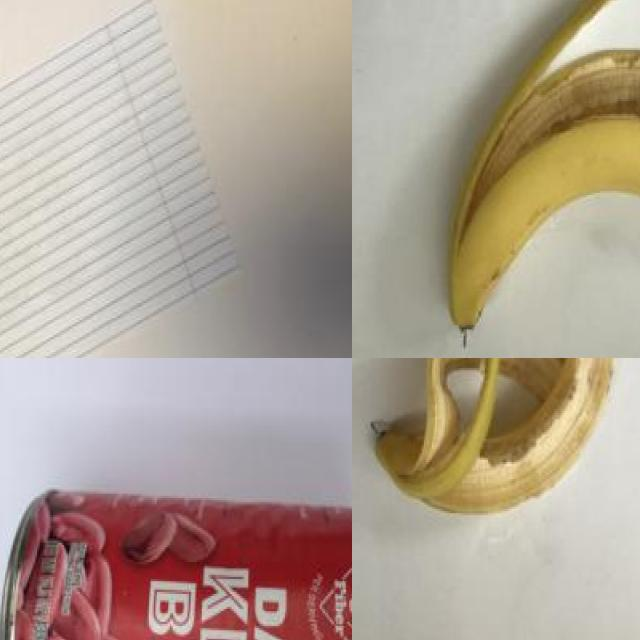compost: (437, 0, 640, 342), (363, 358, 625, 538)
paper: (0, 6, 230, 358)
plastic: (0, 464, 352, 640)
